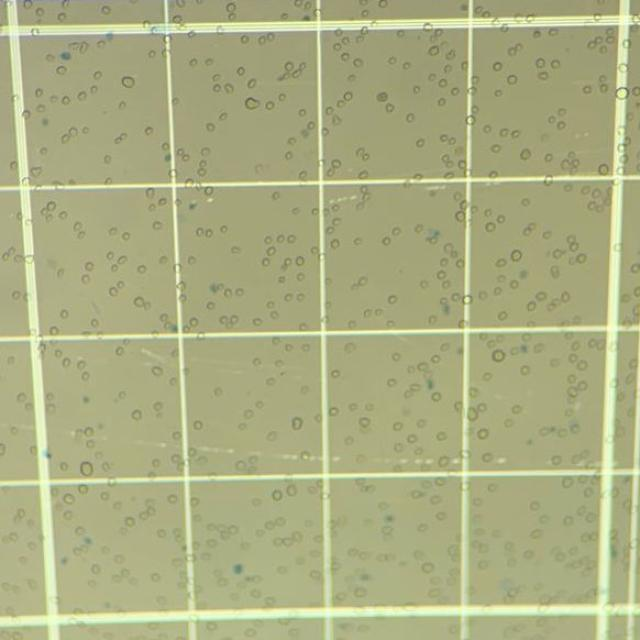Cell: (373, 604, 386, 622), (244, 96, 260, 110), (615, 86, 629, 100), (80, 462, 94, 476), (446, 541, 460, 555), (435, 429, 450, 442), (477, 559, 492, 572), (193, 455, 209, 467), (466, 406, 478, 422), (623, 474, 639, 486), (528, 527, 544, 539), (492, 349, 506, 362), (121, 75, 135, 88), (458, 198, 471, 212), (454, 145, 467, 159), (351, 605, 365, 618), (291, 416, 303, 431), (338, 623, 354, 634), (476, 427, 489, 440), (62, 492, 75, 505), (562, 515, 575, 528), (4, 606, 18, 618), (343, 342, 357, 354), (534, 290, 548, 302), (596, 338, 608, 352), (624, 372, 636, 386), (561, 476, 575, 488), (609, 486, 621, 500), (528, 500, 542, 512), (448, 567, 460, 581), (586, 588, 600, 600), (276, 616, 292, 626), (328, 562, 344, 572), (305, 602, 321, 612), (510, 249, 522, 262), (152, 401, 164, 414), (114, 132, 127, 144), (29, 166, 42, 178), (51, 180, 64, 192), (204, 300, 217, 312), (44, 403, 56, 416), (15, 391, 28, 403), (177, 459, 189, 472), (171, 556, 184, 568), (445, 48, 457, 61), (580, 184, 592, 197), (568, 242, 581, 254), (614, 426, 626, 439), (566, 386, 579, 398), (88, 563, 102, 574), (332, 113, 343, 127), (416, 361, 430, 372), (561, 290, 572, 304), (458, 481, 472, 492), (404, 602, 418, 613), (554, 552, 568, 563), (466, 387, 481, 397), (598, 486, 608, 501), (359, 417, 371, 429), (151, 366, 163, 378), (438, 456, 450, 468), (520, 148, 532, 160), (68, 126, 80, 138), (107, 286, 119, 298), (223, 82, 235, 94), (35, 532, 47, 544), (74, 525, 86, 537), (146, 471, 158, 483), (206, 472, 218, 484), (188, 496, 200, 508), (126, 576, 138, 588), (200, 552, 212, 564), (525, 300, 537, 312), (608, 341, 620, 353), (476, 401, 488, 413), (576, 504, 588, 516), (394, 441, 406, 453), (628, 538, 640, 550), (614, 606, 626, 618), (131, 409, 142, 422), (427, 45, 440, 56), (353, 587, 366, 598), (598, 163, 609, 176), (133, 295, 144, 308), (264, 376, 277, 387), (250, 588, 261, 601), (618, 61, 629, 74), (576, 381, 589, 392), (487, 482, 500, 493), (482, 452, 495, 463), (405, 433, 418, 444), (337, 516, 348, 529), (522, 549, 535, 560), (502, 626, 513, 639), (464, 586, 477, 597), (71, 608, 85, 618), (195, 599, 209, 609), (184, 554, 198, 564), (458, 158, 468, 172), (494, 258, 508, 268), (458, 449, 472, 459), (356, 624, 370, 634), (472, 527, 486, 537), (502, 595, 516, 605), (554, 588, 568, 598), (409, 383, 424, 392), (410, 490, 425, 499), (124, 516, 135, 528), (271, 490, 283, 501), (286, 484, 297, 496), (506, 74, 518, 85), (381, 525, 393, 536), (422, 562, 434, 573), (235, 460, 247, 471), (376, 91, 388, 102), (569, 422, 580, 434), (100, 4, 112, 15), (145, 187, 156, 199), (172, 262, 183, 274), (176, 280, 187, 292), (136, 264, 148, 275), (59, 308, 70, 320), (195, 330, 206, 342), (270, 335, 282, 346), (299, 384, 310, 396), (170, 348, 182, 359), (74, 427, 85, 439), (191, 513, 203, 524), (190, 540, 201, 552), (86, 609, 98, 620), (113, 552, 124, 564), (253, 574, 265, 585), (288, 608, 300, 619), (292, 530, 303, 542), (299, 128, 310, 140), (342, 90, 353, 102), (457, 318, 468, 330), (436, 269, 447, 281), (454, 211, 465, 223), (443, 171, 455, 182), (404, 112, 416, 123), (550, 59, 562, 70), (591, 188, 603, 199), (522, 226, 533, 238), (587, 200, 598, 212), (552, 248, 564, 259), (620, 293, 632, 304), (508, 279, 520, 290), (627, 358, 639, 369), (576, 360, 588, 371), (511, 404, 523, 415), (538, 426, 550, 437), (556, 427, 568, 438), (583, 486, 594, 498), (628, 505, 640, 516), (585, 512, 596, 524), (415, 418, 427, 429), (377, 500, 389, 511), (421, 479, 433, 490), (359, 550, 371, 561), (478, 543, 490, 554), (589, 530, 600, 542), (607, 528, 618, 540), (581, 554, 592, 566), (602, 601, 614, 612), (171, 14, 184, 24), (156, 596, 169, 606), (217, 578, 230, 588), (244, 628, 257, 638), (357, 170, 370, 180), (412, 172, 422, 185), (503, 418, 516, 428), (429, 495, 442, 505), (428, 589, 441, 599), (361, 517, 374, 527), (621, 554, 634, 564), (482, 604, 495, 614), (631, 302, 640, 316), (428, 577, 442, 586), (506, 587, 520, 596), (536, 604, 550, 613), (192, 420, 203, 431), (392, 421, 403, 432), (520, 365, 531, 376), (246, 78, 257, 89), (543, 175, 554, 186), (83, 426, 94, 437), (226, 3, 237, 14), (46, 200, 57, 211), (80, 274, 91, 285), (11, 290, 22, 301), (49, 325, 60, 336), (76, 360, 87, 371), (284, 61, 295, 72), (253, 163, 264, 174), (284, 342, 295, 353), (27, 579, 38, 590), (288, 627, 299, 638), (427, 72, 438, 83), (331, 158, 342, 169), (440, 342, 451, 353), (427, 315, 438, 326), (492, 61, 503, 72), (566, 234, 577, 245), (629, 262, 640, 273), (497, 310, 508, 321), (453, 401, 464, 412), (448, 624, 459, 635), (330, 238, 340, 250), (484, 222, 496, 232), (550, 455, 562, 465), (266, 431, 278, 441), (34, 6, 46, 16), (79, 42, 89, 54), (34, 87, 44, 99), (35, 103, 47, 113), (234, 287, 246, 297), (196, 168, 208, 178), (200, 147, 212, 157), (313, 8, 325, 18), (264, 101, 276, 111), (252, 317, 264, 327), (255, 399, 265, 411), (16, 507, 26, 519), (146, 505, 156, 517), (206, 538, 218, 548), (12, 630, 24, 640), (86, 580, 98, 590), (117, 526, 129, 536), (206, 622, 218, 632), (192, 584, 204, 594), (235, 581, 247, 591), (244, 572, 256, 582), (264, 596, 276, 606), (310, 570, 322, 580), (274, 517, 286, 527), (352, 58, 364, 68), (434, 27, 446, 37), (326, 166, 336, 178), (358, 276, 370, 286), (386, 378, 398, 388), (422, 370, 434, 380), (415, 138, 427, 148), (514, 12, 524, 24), (537, 70, 549, 80), (490, 144, 502, 154), (498, 128, 510, 138), (510, 129, 522, 139), (617, 124, 627, 136), (611, 176, 623, 186), (562, 184, 574, 194), (465, 216, 475, 228), (612, 242, 624, 252), (560, 320, 572, 330), (622, 317, 632, 329), (566, 374, 578, 384), (592, 470, 604, 480), (435, 511, 447, 521), (417, 523, 429, 533), (472, 497, 484, 507), (491, 529, 503, 539), (506, 558, 518, 568), (567, 546, 579, 556), (580, 532, 590, 544), (581, 568, 593, 578), (512, 624, 527, 632), (533, 582, 545, 592), (68, 42, 81, 51), (62, 356, 71, 369), (80, 331, 93, 340), (174, 0, 187, 9), (144, 498, 157, 507), (227, 525, 240, 534), (0, 442, 7, 458), (261, 606, 275, 614), (540, 596, 554, 604), (328, 406, 339, 416), (384, 103, 395, 113), (266, 246, 276, 257), (462, 294, 472, 305), (205, 122, 216, 132), (576, 253, 586, 264), (300, 450, 310, 461), (422, 22, 433, 32), (45, 53, 56, 63), (93, 70, 103, 81), (21, 176, 32, 186), (72, 221, 82, 232), (107, 226, 118, 236), (103, 154, 113, 165), (158, 255, 168, 266), (56, 268, 66, 279), (49, 337, 60, 347), (96, 330, 106, 341), (189, 317, 200, 327), (223, 288, 233, 299), (186, 30, 197, 40), (216, 25, 226, 36), (290, 70, 301, 80), (271, 191, 281, 202), (269, 310, 279, 321), (318, 316, 329, 326), (243, 409, 254, 419), (181, 367, 191, 378), (167, 377, 178, 387), (8, 426, 19, 436), (102, 461, 112, 472), (106, 478, 117, 488), (78, 484, 89, 494), (62, 510, 72, 521), (50, 501, 61, 511), (8, 532, 18, 543), (17, 555, 28, 565), (26, 542, 37, 552), (100, 491, 110, 502), (168, 494, 179, 504), (170, 453, 180, 464), (171, 430, 182, 440), (157, 528, 167, 539), (2, 580, 12, 591), (116, 608, 127, 618), (150, 572, 161, 582), (189, 614, 200, 624), (253, 618, 264, 628), (272, 536, 283, 546), (282, 537, 293, 547), (251, 498, 262, 508), (316, 479, 327, 489), (283, 472, 293, 483), (213, 386, 224, 396), (438, 78, 449, 88), (330, 369, 341, 379), (364, 402, 375, 412), (431, 354, 442, 364), (419, 280, 429, 291), (451, 292, 462, 302), (525, 14, 536, 24), (535, 58, 546, 68), (469, 75, 480, 85), (556, 120, 566, 131), (622, 38, 632, 49), (615, 166, 626, 176), (606, 185, 616, 196), (542, 230, 553, 240), (549, 264, 560, 274), (551, 298, 562, 308), (570, 341, 580, 352), (625, 408, 636, 418), (534, 343, 545, 353), (521, 332, 532, 342), (571, 454, 581, 465), (622, 499, 632, 510), (539, 514, 550, 524), (355, 454, 366, 464), (344, 436, 354, 447), (347, 547, 358, 557), (286, 137, 298, 146), (219, 532, 231, 541), (313, 534, 325, 543), (308, 549, 320, 558), (631, 13, 640, 25), (631, 86, 640, 98), (568, 167, 580, 176), (562, 332, 574, 341), (549, 359, 561, 368), (354, 476, 366, 485), (434, 478, 446, 487), (326, 556, 338, 565), (354, 568, 366, 577), (570, 561, 582, 570), (624, 627, 636, 636), (229, 246, 242, 254), (102, 631, 115, 639), (342, 576, 355, 584), (335, 592, 348, 600), (388, 294, 398, 304), (431, 392, 441, 402), (84, 262, 94, 272), (466, 115, 476, 125), (294, 256, 304, 266), (56, 66, 66, 76), (185, 178, 195, 188), (204, 186, 214, 196), (168, 168, 178, 178), (58, 12, 68, 22), (60, 0, 70, 10), (161, 48, 171, 58), (96, 39, 106, 49), (8, 160, 18, 170), (16, 211, 26, 221), (121, 232, 131, 242), (147, 203, 157, 213), (68, 178, 78, 188), (177, 294, 187, 304), (14, 255, 24, 265), (34, 334, 44, 344), (35, 353, 45, 363), (122, 336, 132, 346), (211, 73, 221, 83), (212, 83, 222, 93), (280, 12, 290, 22), (306, 121, 316, 131), (298, 170, 308, 180), (287, 234, 297, 244), (263, 235, 273, 245), (276, 234, 286, 244), (261, 257, 271, 267), (296, 292, 306, 302), (266, 300, 276, 310), (252, 357, 262, 367), (118, 390, 128, 400), (45, 391, 55, 401), (112, 500, 122, 510), (139, 510, 149, 520), (150, 458, 160, 468), (121, 568, 131, 578), (264, 520, 274, 530), (314, 414, 324, 424), (355, 35, 365, 45), (340, 52, 350, 62), (439, 40, 449, 50), (444, 64, 454, 74), (336, 99, 346, 109), (320, 127, 330, 137), (355, 148, 365, 158), (362, 308, 372, 318), (348, 320, 358, 330), (406, 364, 416, 374), (441, 280, 451, 290), (382, 236, 392, 246), (414, 224, 424, 234), (456, 259, 466, 269), (440, 152, 450, 162), (440, 133, 450, 143), (482, 10, 492, 20), (500, 23, 510, 33), (587, 40, 597, 50), (507, 46, 517, 56), (482, 124, 492, 134), (557, 108, 567, 118), (622, 136, 632, 146), (618, 154, 628, 164), (571, 158, 581, 168), (544, 153, 554, 163), (488, 170, 498, 180), (469, 205, 479, 215), (483, 208, 493, 218), (496, 214, 506, 224), (478, 290, 488, 300), (572, 315, 582, 325), (588, 338, 598, 348), (610, 378, 620, 388), (568, 354, 578, 364), (526, 320, 536, 330), (496, 334, 506, 344), (480, 332, 490, 342), (580, 450, 590, 460), (578, 474, 588, 484), (367, 484, 377, 494), (326, 519, 336, 529), (413, 550, 423, 560), (376, 554, 386, 564), (473, 514, 483, 524), (504, 542, 514, 552), (537, 617, 547, 627), (31, 27, 40, 38), (40, 206, 49, 217), (157, 197, 168, 206), (117, 256, 128, 265), (36, 343, 47, 352), (81, 371, 90, 382), (90, 317, 99, 328), (229, 314, 238, 325), (239, 35, 250, 44), (323, 277, 334, 286), (237, 422, 248, 431), (29, 445, 38, 456), (59, 461, 68, 472), (216, 524, 227, 533), (50, 596, 61, 605), (148, 621, 159, 630), (176, 581, 187, 590), (295, 556, 306, 565), (255, 529, 266, 538), (307, 485, 318, 494), (461, 60, 470, 71), (349, 282, 360, 291), (347, 403, 358, 412), (391, 352, 402, 361), (391, 227, 402, 236), (467, 87, 478, 96), (493, 89, 504, 98), (600, 84, 609, 95), (567, 256, 578, 265), (493, 286, 502, 297), (393, 465, 404, 474), (549, 546, 560, 555), (174, 633, 188, 640), (90, 84, 98, 96), (156, 632, 168, 640), (276, 565, 288, 573), (321, 492, 333, 500), (246, 466, 258, 474), (248, 456, 260, 464), (385, 319, 397, 327), (548, 28, 560, 36), (560, 158, 568, 170), (632, 286, 640, 298), (413, 448, 425, 456), (396, 560, 408, 568), (632, 606, 640, 618), (152, 221, 162, 230), (144, 126, 153, 136), (22, 109, 31, 119), (24, 0, 33, 10), (162, 35, 172, 44), (147, 50, 157, 59), (10, 93, 20, 102), (61, 96, 70, 106), (78, 91, 87, 101), (118, 100, 127, 110), (61, 134, 70, 144), (58, 210, 67, 220), (105, 176, 114, 186), (187, 255, 196, 265), (104, 251, 114, 260), (23, 292, 32, 302), (7, 246, 16, 256), (1, 252, 10, 262), (6, 355, 15, 365), (54, 349, 63, 359), (115, 346, 124, 356), (116, 280, 125, 290), (163, 321, 173, 330), (150, 330, 160, 339), (204, 228, 213, 238), (204, 58, 214, 67), (228, 13, 238, 22), (266, 32, 275, 42), (237, 66, 246, 76), (218, 112, 228, 121), (290, 207, 300, 216), (317, 252, 327, 261), (296, 272, 305, 282), (283, 293, 293, 302), (299, 322, 308, 332), (323, 300, 332, 310), (301, 343, 310, 353), (86, 439, 95, 449), (94, 451, 103, 461), (26, 519, 36, 528), (172, 527, 182, 536), (1, 630, 10, 640), (88, 626, 98, 635), (179, 571, 188, 581), (378, 0, 388, 9), (360, 9, 369, 19), (360, 26, 369, 36), (333, 42, 342, 52), (387, 56, 396, 66), (402, 61, 412, 70), (396, 29, 406, 38), (450, 87, 460, 96), (412, 85, 421, 95), (325, 106, 334, 116), (360, 184, 370, 193), (355, 202, 365, 211), (352, 237, 362, 246), (403, 389, 412, 399), (443, 243, 453, 252), (453, 192, 462, 202), (403, 179, 412, 189), (445, 160, 455, 169), (491, 17, 501, 26), (470, 105, 480, 114), (539, 132, 549, 141), (582, 85, 592, 94), (598, 74, 607, 84), (629, 25, 639, 34), (568, 150, 577, 160), (606, 435, 616, 444), (564, 408, 573, 418), (509, 347, 519, 356), (487, 340, 497, 349), (482, 372, 492, 381), (585, 460, 594, 470), (2, 0, 13, 8), (258, 35, 266, 46), (273, 359, 284, 367), (188, 447, 196, 458), (205, 523, 216, 531), (100, 546, 111, 554), (111, 574, 122, 582), (186, 576, 197, 584), (458, 4, 469, 12), (361, 194, 372, 202), (463, 169, 474, 177), (448, 136, 456, 147), (605, 36, 616, 44), (617, 144, 628, 152), (603, 198, 614, 206), (520, 198, 531, 206), (632, 389, 640, 400), (421, 465, 432, 473), (196, 180, 203, 192), (25, 255, 34, 264), (34, 18, 43, 27), (49, 95, 58, 104), (33, 184, 42, 193), (77, 230, 86, 239), (175, 147, 184, 156), (189, 58, 198, 67), (294, 0, 303, 9), (278, 93, 287, 102), (310, 246, 319, 255), (51, 488, 60, 497), (334, 28, 343, 37), (342, 36, 351, 45), (362, 153, 371, 162), (321, 208, 330, 217), (474, 6, 483, 15), (532, 30, 541, 39), (451, 554, 460, 563), (142, 20, 150, 30), (150, 26, 158, 36), (39, 148, 49, 156), (182, 324, 190, 334), (220, 315, 228, 325), (196, 227, 204, 237), (198, 160, 208, 168), (181, 154, 191, 162), (170, 98, 180, 106), (175, 22, 185, 30), (299, 61, 307, 71), (24, 403, 34, 411), (11, 585, 21, 593), (80, 544, 88, 554), (72, 546, 80, 556), (212, 570, 222, 578), (304, 519, 314, 527), (346, 74, 356, 82), (332, 218, 342, 226), (593, 12, 601, 22), (594, 36, 604, 44), (527, 222, 537, 230), (496, 274, 506, 282), (545, 303, 555, 311), (616, 392, 624, 402), (567, 398, 577, 406), (447, 578, 457, 586), (224, 322, 235, 329), (438, 597, 449, 604), (219, 225, 228, 233), (110, 263, 118, 272), (160, 313, 168, 322), (282, 72, 291, 80), (285, 151, 293, 160), (311, 207, 319, 216), (278, 276, 287, 284), (184, 592, 192, 601), (370, 20, 379, 28), (429, 35, 437, 44), (438, 98, 447, 106), (374, 308, 383, 316), (439, 297, 448, 305), (440, 258, 448, 267), (450, 250, 458, 259), (605, 28, 614, 36), (599, 45, 607, 54), (515, 43, 523, 52), (547, 115, 556, 123), (626, 112, 634, 121), (596, 204, 604, 213), (611, 418, 620, 426), (590, 477, 598, 486), (386, 554, 395, 562), (471, 539, 480, 547), (622, 564, 631, 572), (24, 219, 34, 226), (144, 301, 151, 311), (304, 1, 311, 11), (229, 593, 239, 600), (325, 227, 335, 234), (623, 547, 633, 554), (82, 126, 90, 134), (45, 214, 53, 222), (174, 198, 182, 206), (162, 142, 170, 150), (28, 328, 36, 336), (284, 258, 292, 266), (2, 486, 10, 494), (317, 159, 325, 167), (428, 190, 436, 198), (552, 273, 560, 281), (360, 485, 368, 493), (217, 282, 224, 291), (299, 108, 306, 117), (279, 371, 288, 378), (175, 537, 184, 544), (332, 205, 341, 212), (429, 237, 438, 244), (358, 0, 368, 6), (456, 533, 462, 543), (545, 249, 551, 258), (130, 496, 137, 503), (195, 0, 203, 6), (416, 34, 422, 40)
